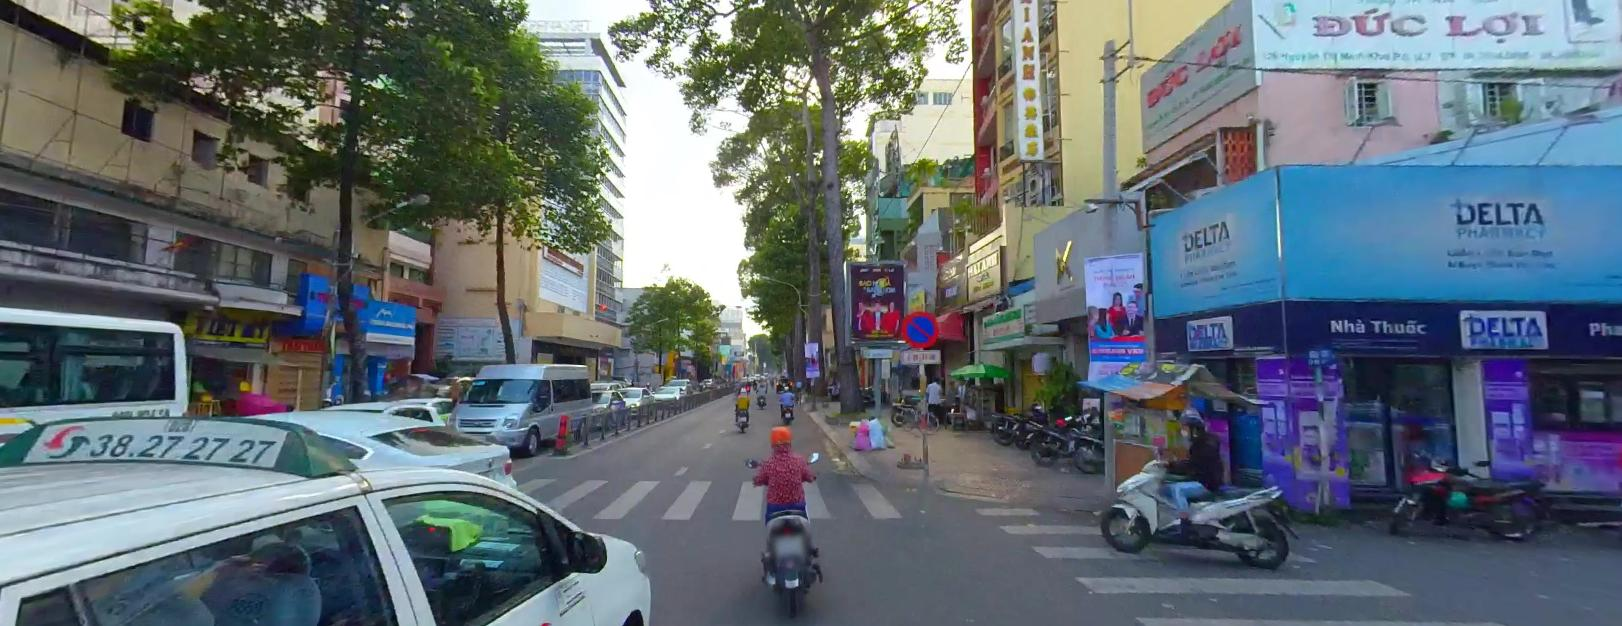Cam dung va do: (899, 308, 939, 348)
